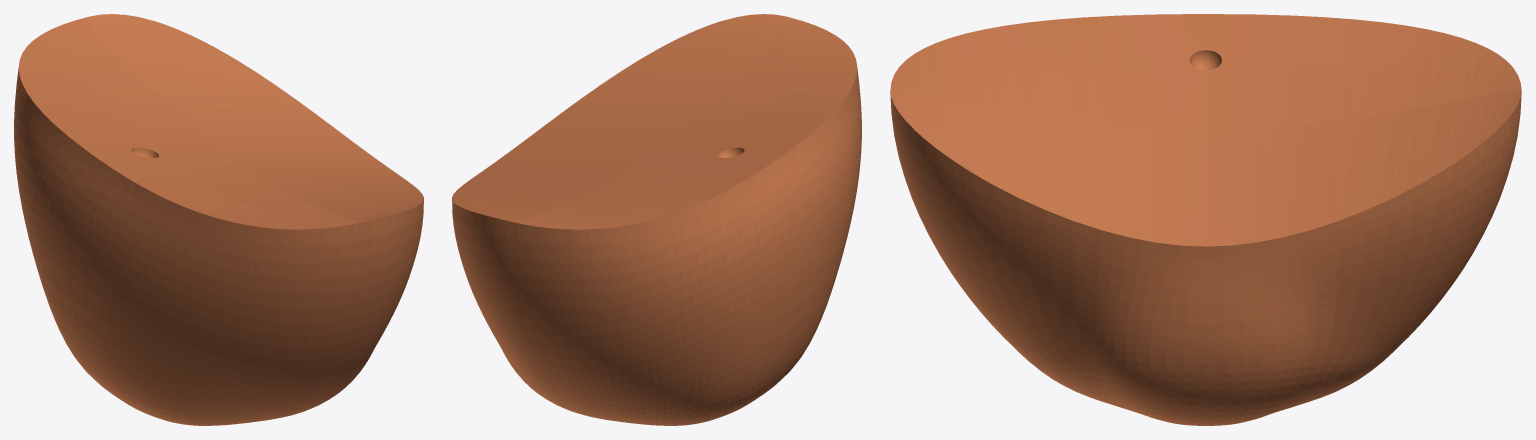
The model's file is pelvis.dae.
3 renders of one model, left to right at view 1: azimuth 30°, elevation 25°; view 2: azimuth 150°, elevation 25°; view 3: azimuth 270°, elevation 25°, orthographic. The views are drawn at different scales.
Visible parts, largest first — view 1: polySurface1; view 2: polySurface1; view 3: polySurface1.
Part boxes in pixels (x1,y1,x2,y2): polySurface1: (14,14,423,425); polySurface1: (452,14,861,425); polySurface1: (890,14,1521,425).
Bounding box in the file's own units: 0.1728 × 0.1488 × 0.274.
